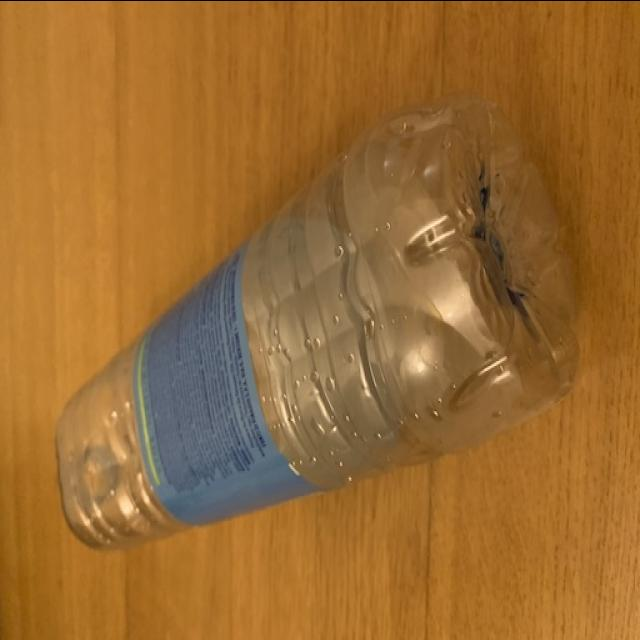PET: (51, 94, 588, 548)
